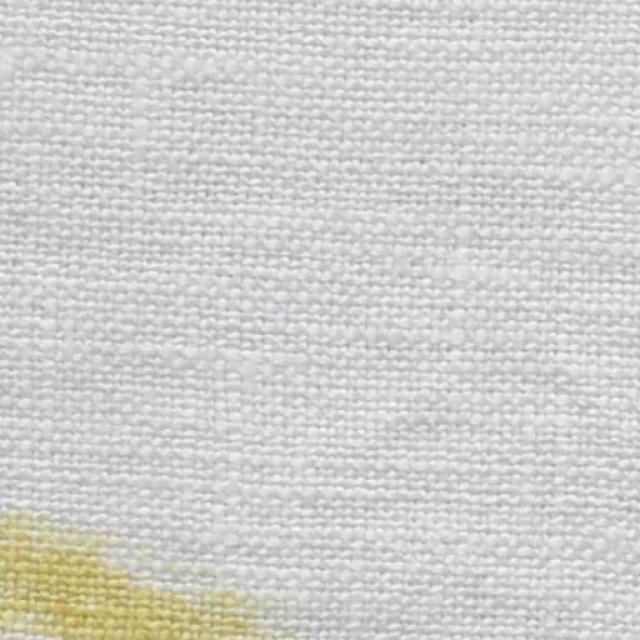Stain: (0, 511, 261, 640)
